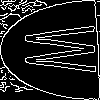W: (24, 25, 100, 73)
